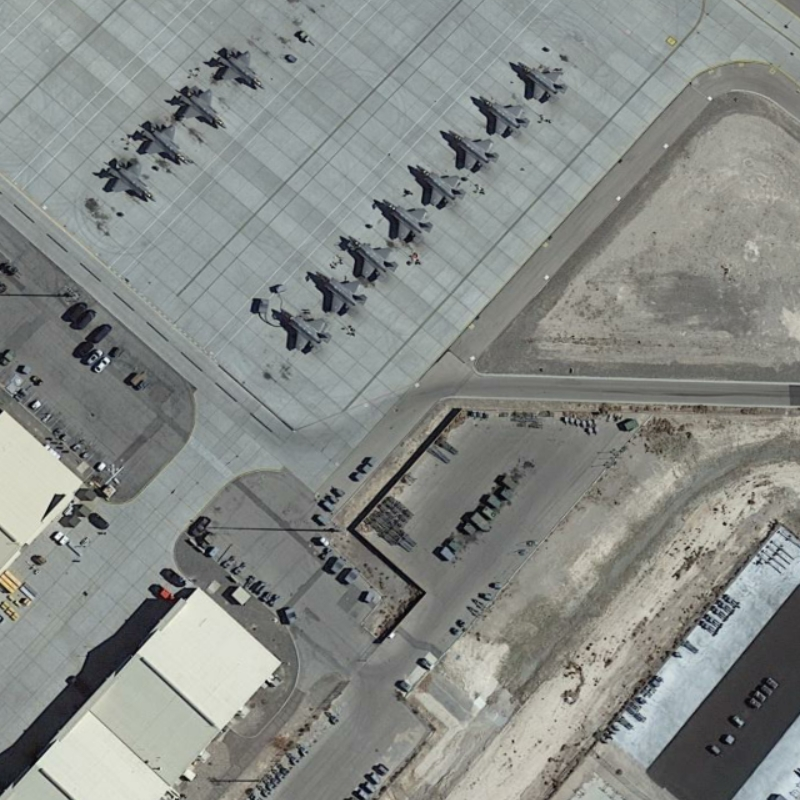A15: (97, 156, 160, 207), (168, 82, 232, 132), (132, 119, 195, 168), (211, 45, 270, 94), (346, 232, 400, 282), (476, 92, 532, 140), (446, 127, 502, 175), (314, 269, 370, 317), (380, 198, 435, 246), (279, 307, 332, 356), (413, 162, 467, 210), (515, 58, 571, 104)
